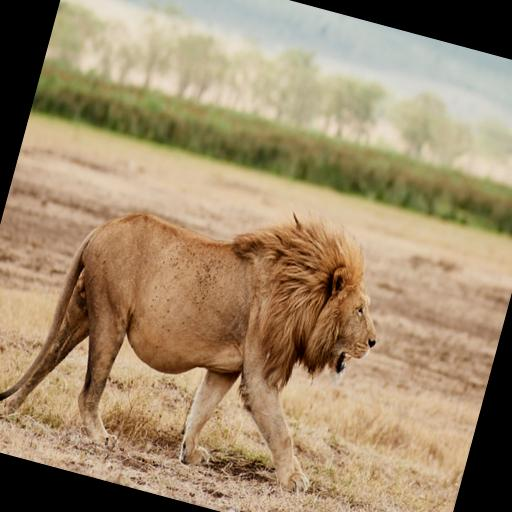lions: (0, 51, 442, 512)
